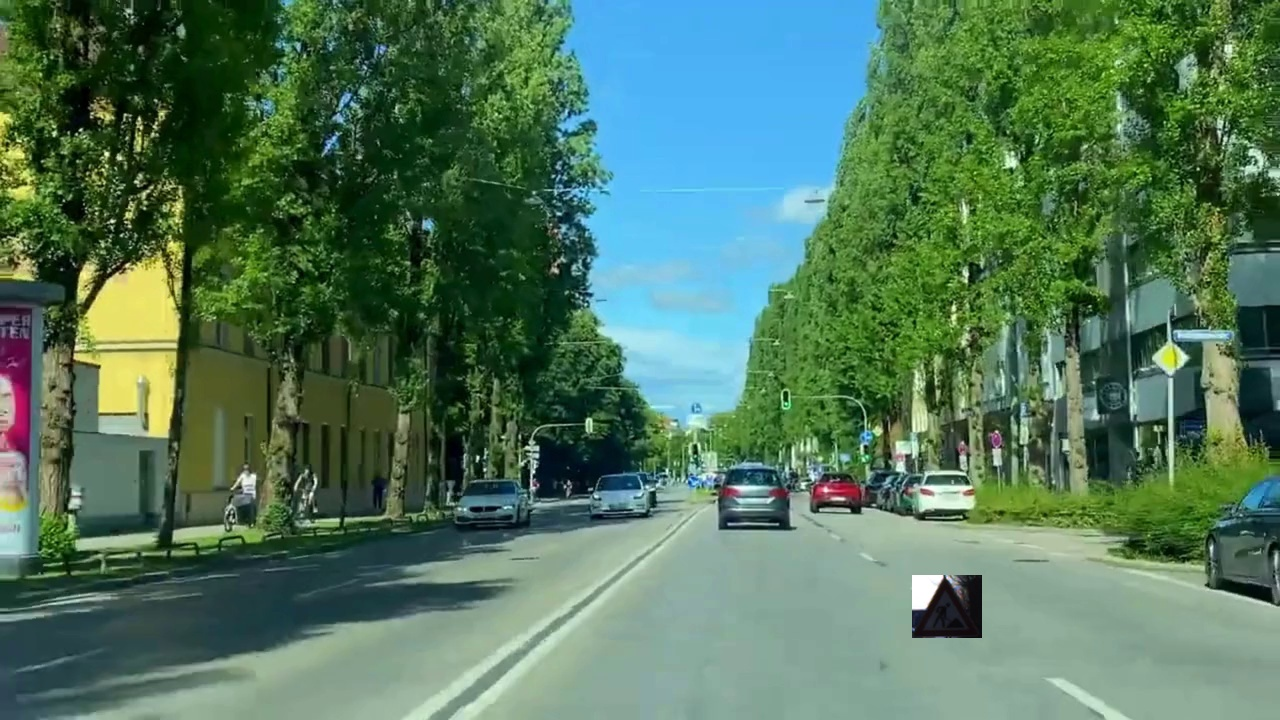Road work: (912, 575, 982, 638)
